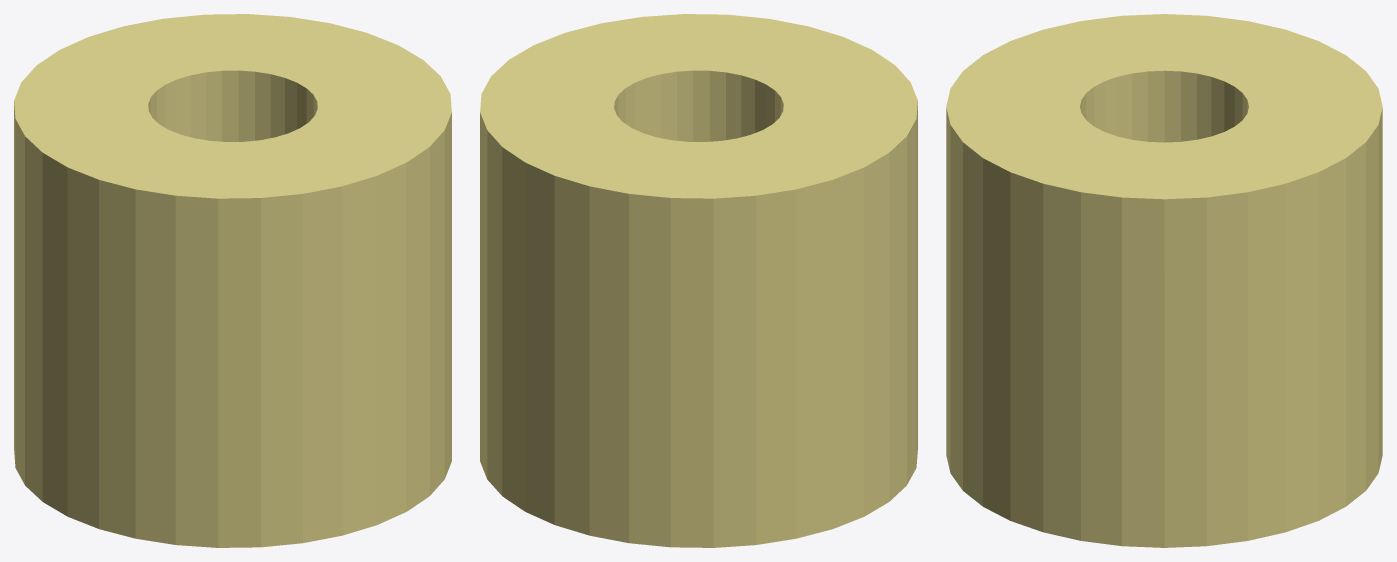
Rendered from toilet paper 2 .fbx.
3 renders of one model, left to right at view 1: azimuth 30°, elevation 25°; view 2: azimuth 150°, elevation 25°; view 3: azimuth 270°, elevation 25°, orthographic.
Parts seen in each view (by area): view 1: Cylinder; view 2: Cylinder; view 3: Cylinder.
Boxes of the visible parts, <box> form: Cylinder: <box>14,14,451,547</box>; Cylinder: <box>480,14,917,547</box>; Cylinder: <box>946,14,1382,547</box>.
Size of the model in its own units: 49.19 by 43.16 by 48.96.
